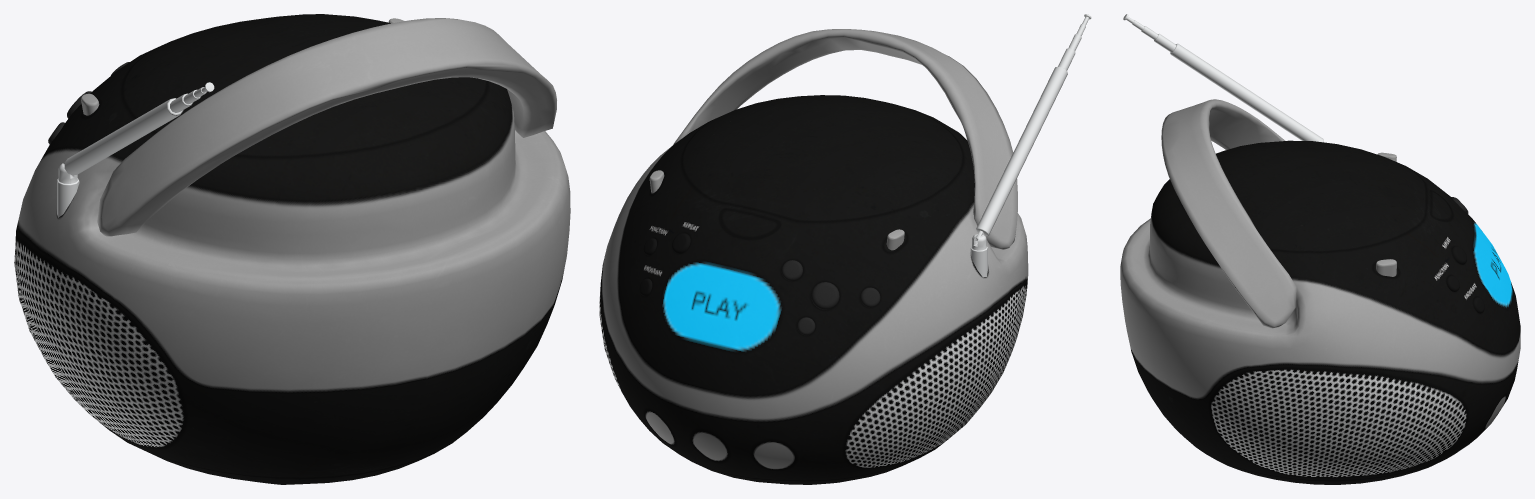
File: headphones.glb
3 views of the same model, side by side, from view 1: azimuth 30°, elevation 25°; view 2: azimuth 150°, elevation 25°; view 3: azimuth 270°, elevation 25° (orthographic). The views are drawn at different scales.
Parts seen in each view (by area): view 1: BoomBox; view 2: BoomBox; view 3: BoomBox.
Part boxes in pixels (x1=…): BoomBox: x1=14, y1=14, x2=570, y2=484; BoomBox: x1=599, y1=14, x2=1091, y2=484; BoomBox: x1=1120, y1=14, x2=1520, y2=484.
Size of the model in its own units: 0.0198 by 0.0195 by 0.0202.
1 material, 1 textured.
